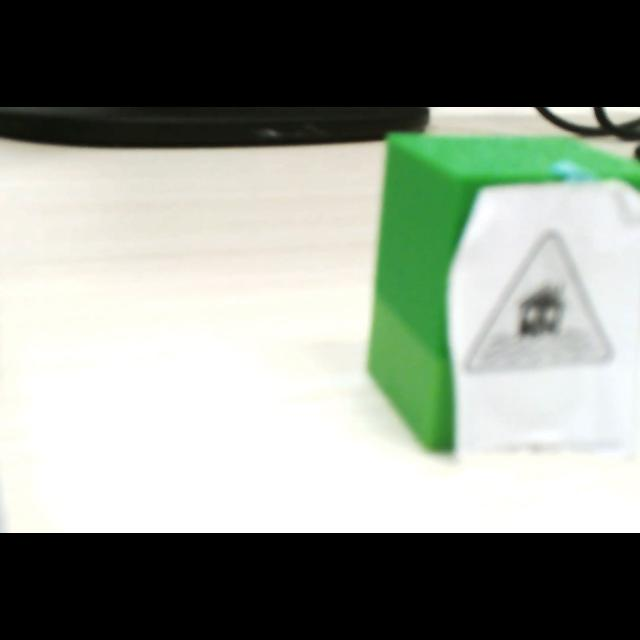Tsunami: (465, 233, 614, 372)
